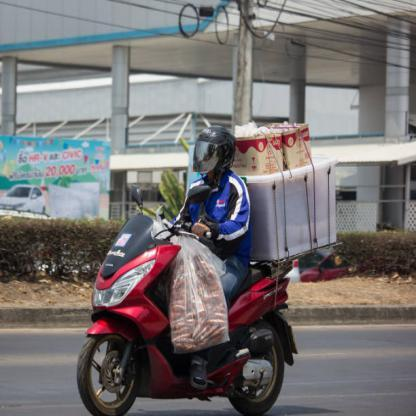Motorcycle: (77, 187, 301, 415)
